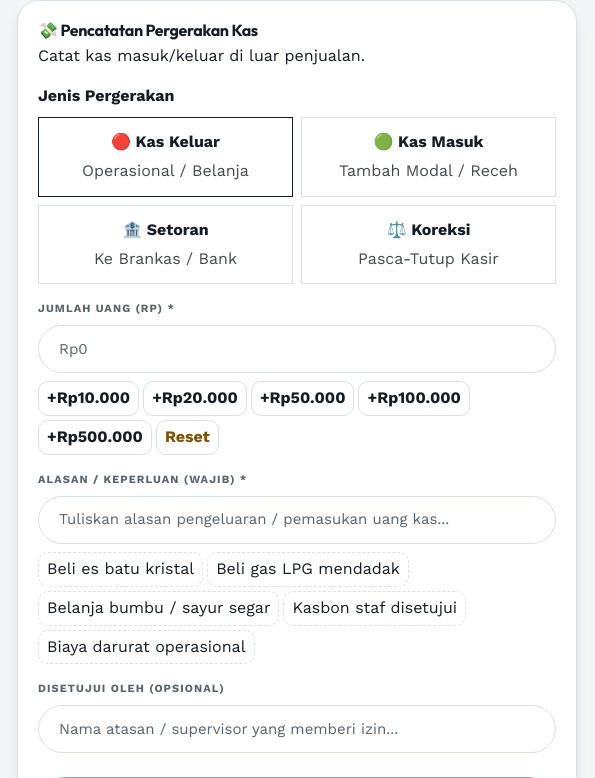
Scenario: KasKeluarMasuk (T7-03 — Kas Masuk, Kas Keluar, Setoran, dan Koreksi) › tombol nominal cepat menambah jumlah dan reset mengosongkannya
Expected: the field labelled "Jumlah Uang (Rp) *" is empty, [38,325,556,373]
Click the button "+Rp10.000" at (89, 399), box [38,381,139,416]
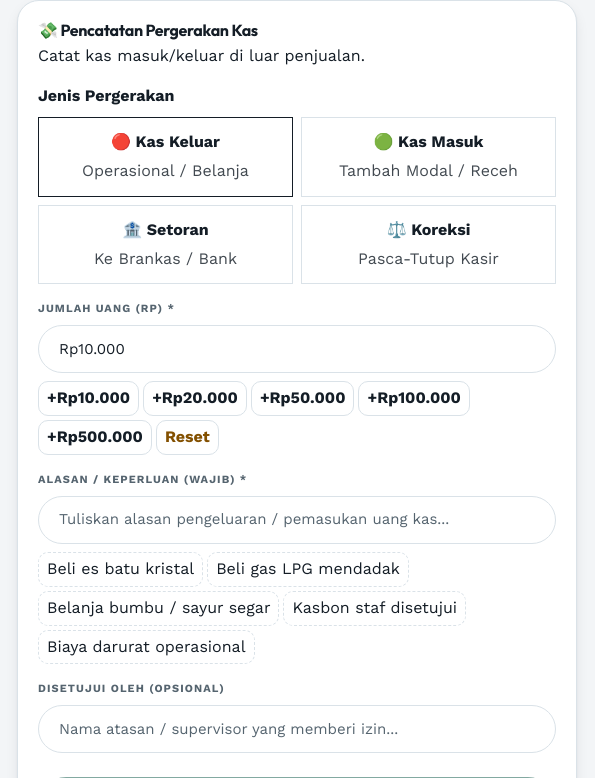
Click the button "+Rp50.000" at (303, 399), box [251,381,354,416]
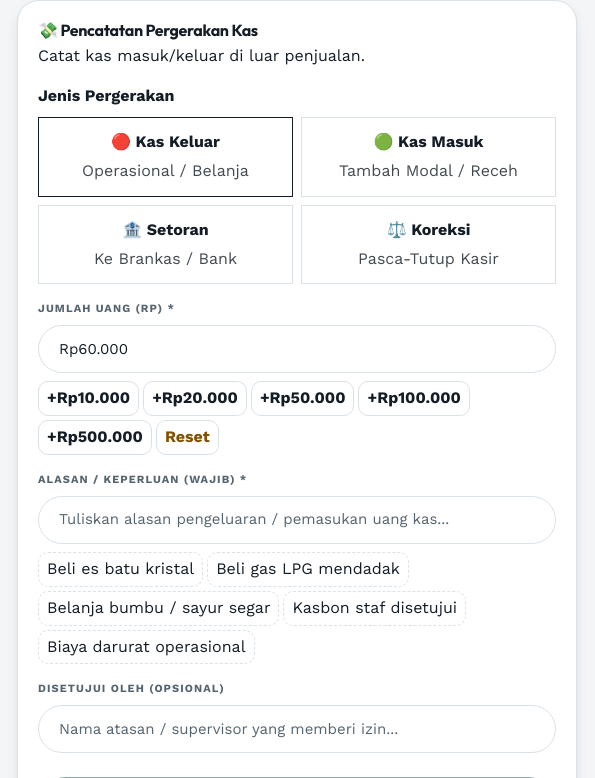
Click the button "Reset" at (187, 438), box [156,420,219,455]
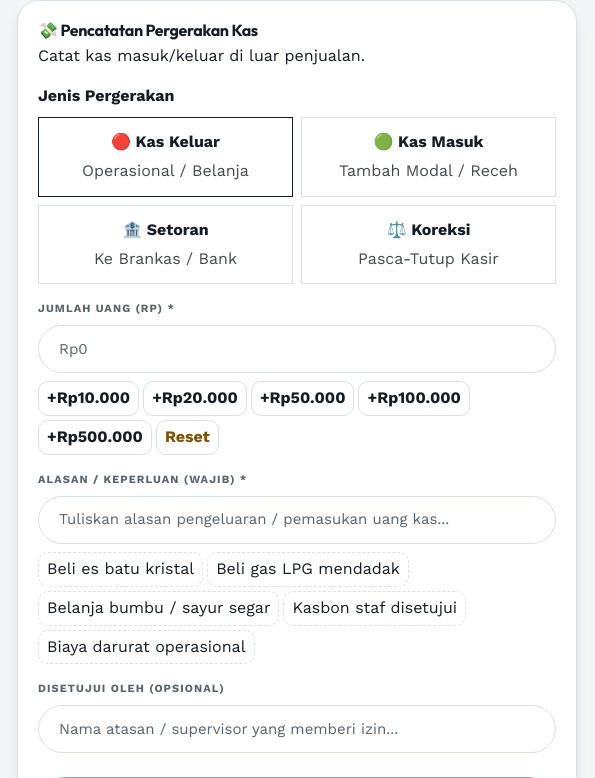
Expected: the field labelled "Jumlah Uang (Rp) *" is empty, [38,325,556,373]
